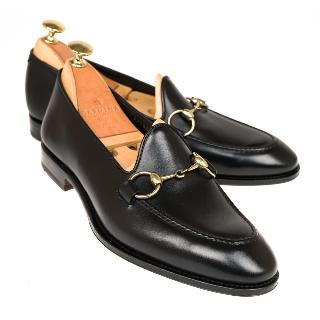loafers: (20, 15, 308, 302)
